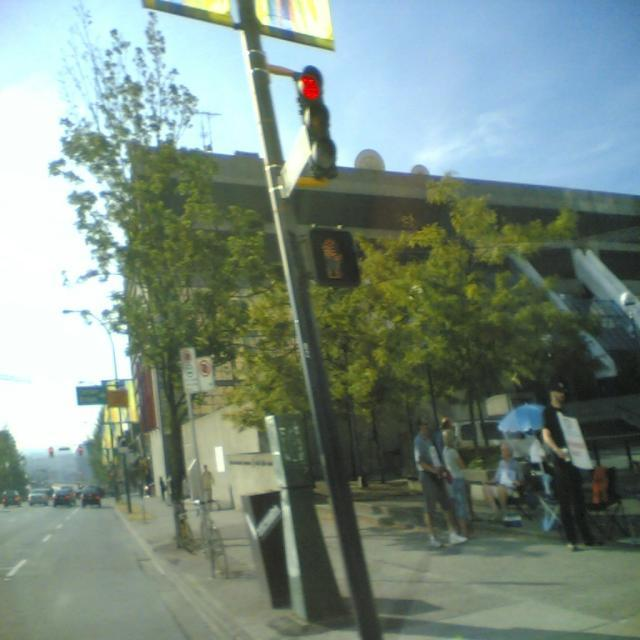traffic light: (298, 66, 338, 179)
